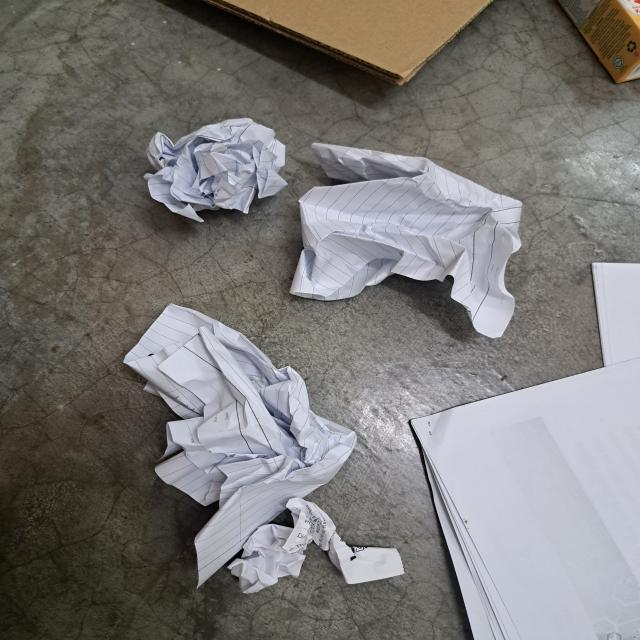cardboard: (211, 0, 497, 87)
drink carton: (556, 0, 640, 84)
paper: (416, 262, 640, 640), (123, 301, 404, 590), (296, 136, 529, 338), (139, 113, 290, 224)
